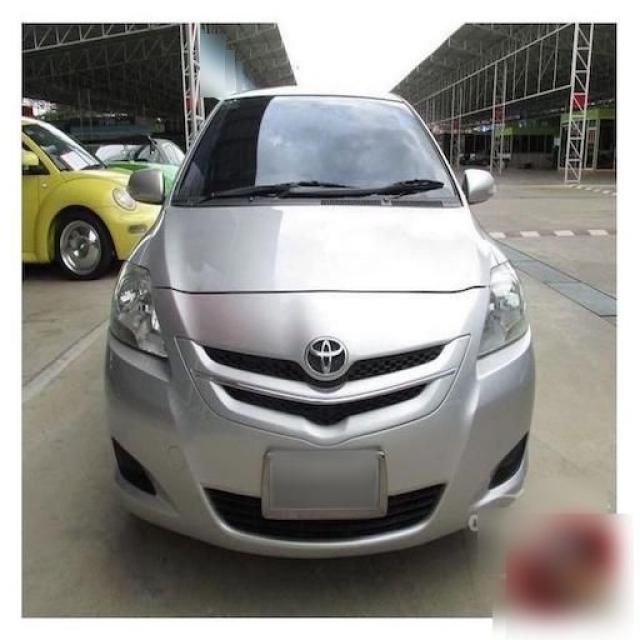front_bumper: (103, 287, 538, 560)
front_glass: (169, 96, 465, 207)
front_left_light: (476, 260, 531, 359)
front_right_light: (111, 262, 168, 357)
hood: (141, 204, 499, 292)
left_mirror: (460, 168, 496, 206)
right_mirror: (126, 168, 164, 204)
